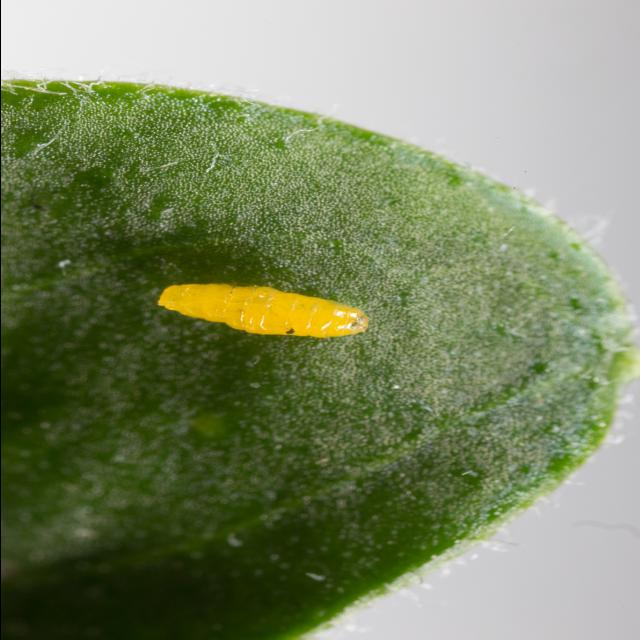Serpentine leafminer: (142, 272, 384, 349)
